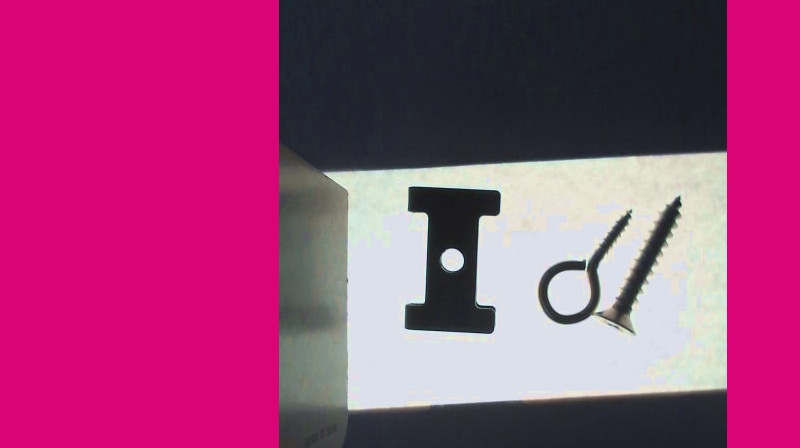O001: (537, 206, 635, 326)
O002: (403, 183, 501, 335)
S001: (593, 190, 685, 337)
